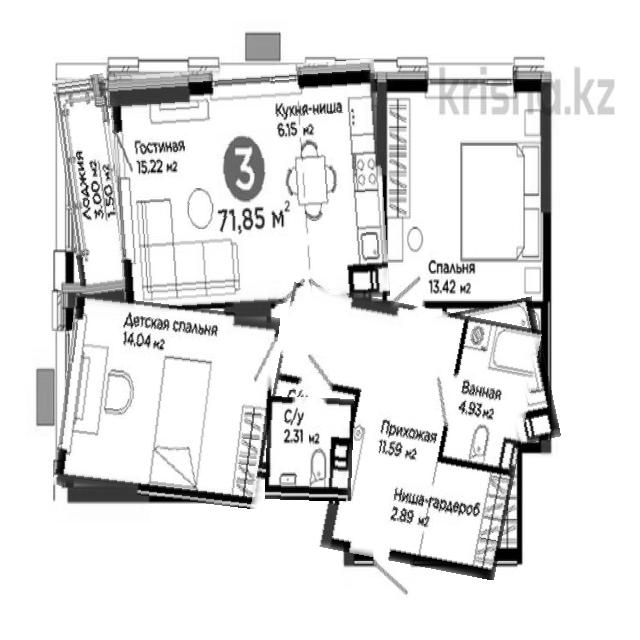balcony: (60, 74, 128, 309)
bathroom: (437, 301, 555, 452), (266, 396, 354, 501)
hallway: (276, 282, 514, 580)
living_room: (59, 299, 275, 504), (380, 71, 548, 307)
studio: (113, 64, 386, 310)
